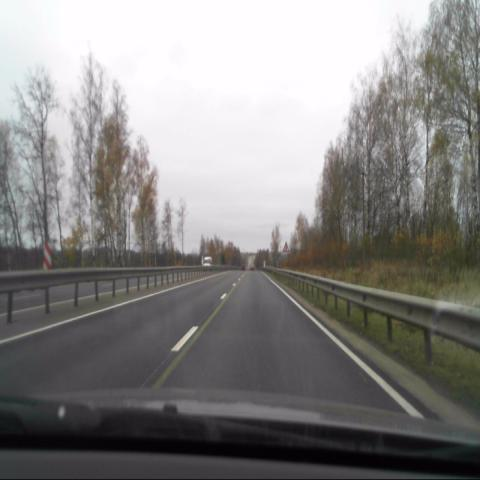2_3_2: (283, 239, 290, 252)
